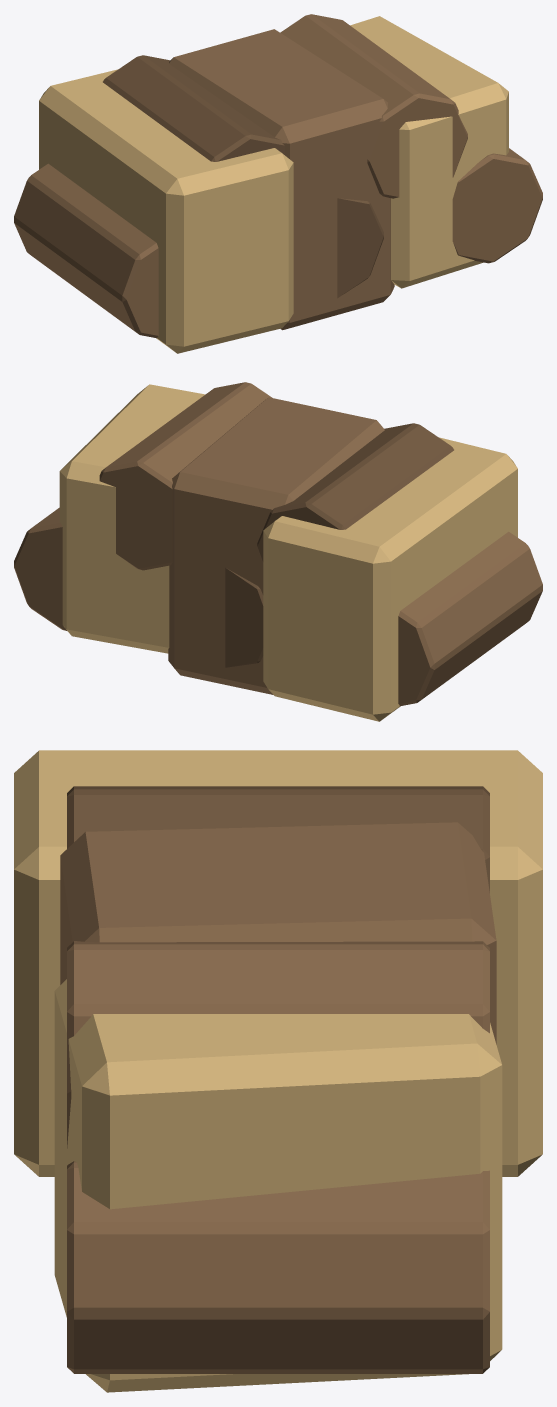
File: town_firewood_stack.glb
3 views of the same model, one above another, from view 1: azimuth 30°, elevation 25°; view 2: azimuth 150°, elevation 25°; view 3: azimuth 270°, elevation 25° (orthographic). The views are drawn at different scales.
Bounding box in the file's own units: 1.28 × 0.599 × 0.738.
